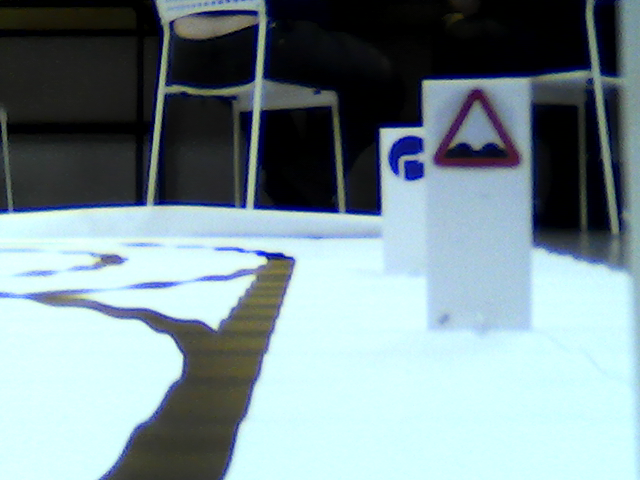Nerov: (431, 84, 528, 173)
